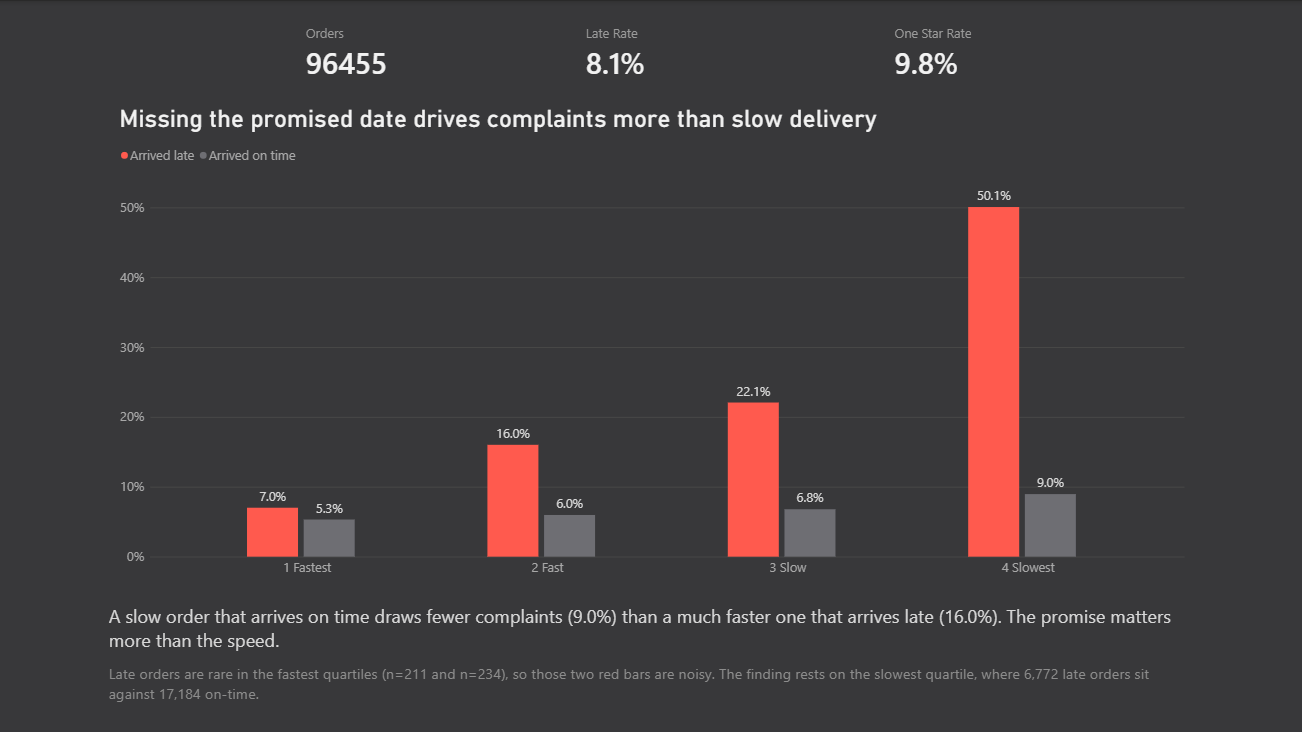

The page's visual inventory and layout, read from the dashboard file:
{"tool":"powerbi","page":{"name":"Promise vs Speed","canvas":[1920,1080],"ordinal":0},"visuals":[{"type":"cardVisual","fields":{"Data":["fact_orders.Orders"]},"box":[434.4,16.6,230,120],"z":0},{"type":"cardVisual","fields":{"Data":["fact_orders.Late Rate"]},"box":[846.6,16.6,230,120],"z":1000},{"type":"cardVisual","fields":{"Data":["fact_orders.One Star Rate"]},"box":[1301.2,16.6,230,120],"z":2000},{"type":"clusteredColumnChart","title":"Missing the promised date drives complaints more than slow delivery","fields":{"Category":["fact_orders.Speed Quartile"],"Y":["fact_orders.One Star Rate"],"Series":["fact_orders.Delivery Outcome"]},"box":[160.1,138,1600,730],"z":3000},{"type":"textbox","box":[160.1,887.1,1599.4,71.8],"z":4000},{"type":"textbox","box":[160.1,975.5,1599.4,77.3],"z":5000}]}

Visuals, with their boxes in screenshot pixels (x1, y1, x2, y2), scaled from the page's 1920x1080 canvas onto the 1302x732 screenshot:
cardVisual - fact_orders.Orders: {"x1": 295, "y1": 11, "x2": 451, "y2": 93}
cardVisual - fact_orders.Late Rate: {"x1": 574, "y1": 11, "x2": 730, "y2": 93}
cardVisual - fact_orders.One Star Rate: {"x1": 882, "y1": 11, "x2": 1038, "y2": 93}
"Missing the promised date drives complaints more than slow delivery" clusteredColumnChart: {"x1": 109, "y1": 94, "x2": 1194, "y2": 588}
textbox: {"x1": 109, "y1": 601, "x2": 1193, "y2": 650}
textbox: {"x1": 109, "y1": 661, "x2": 1193, "y2": 714}
